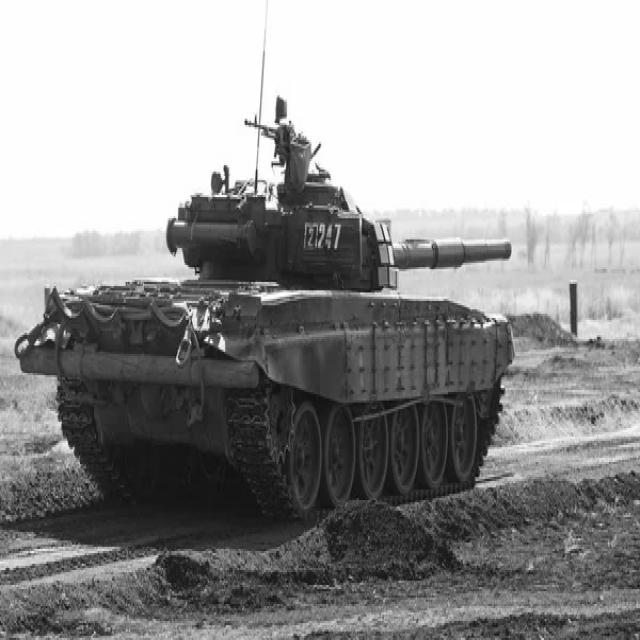Tank: (16, 79, 520, 524)
